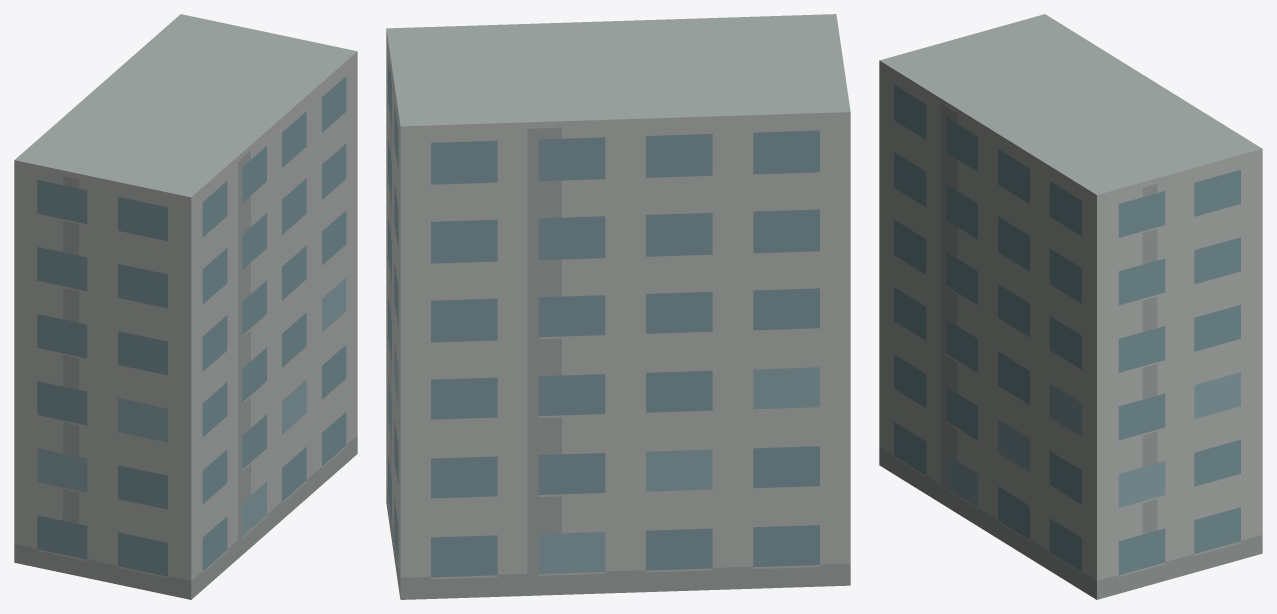
The model's file is survey-upis-32930876.glb.
3 renders of one model, left to right at view 1: azimuth 30°, elevation 25°; view 2: azimuth 150°, elevation 25°; view 3: azimuth 270°, elevation 25°, orthographic. The views are drawn at different scales.
Visible parts, largest first — view 1: survey-upis-32930876.tmp; view 2: survey-upis-32930876.tmp; view 3: survey-upis-32930876.tmp.
Part boxes in pixels (<box>): survey-upis-32930876.tmp: <box>14,14,357,599</box>; survey-upis-32930876.tmp: <box>386,14,850,599</box>; survey-upis-32930876.tmp: <box>879,14,1262,599</box>.
Bounding box in the file's own units: 17.27 × 18 × 15.45.
